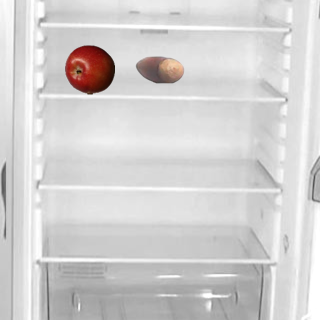Apple Braeburn: (64, 44, 114, 94)
Hazelnut: (134, 44, 184, 94)
